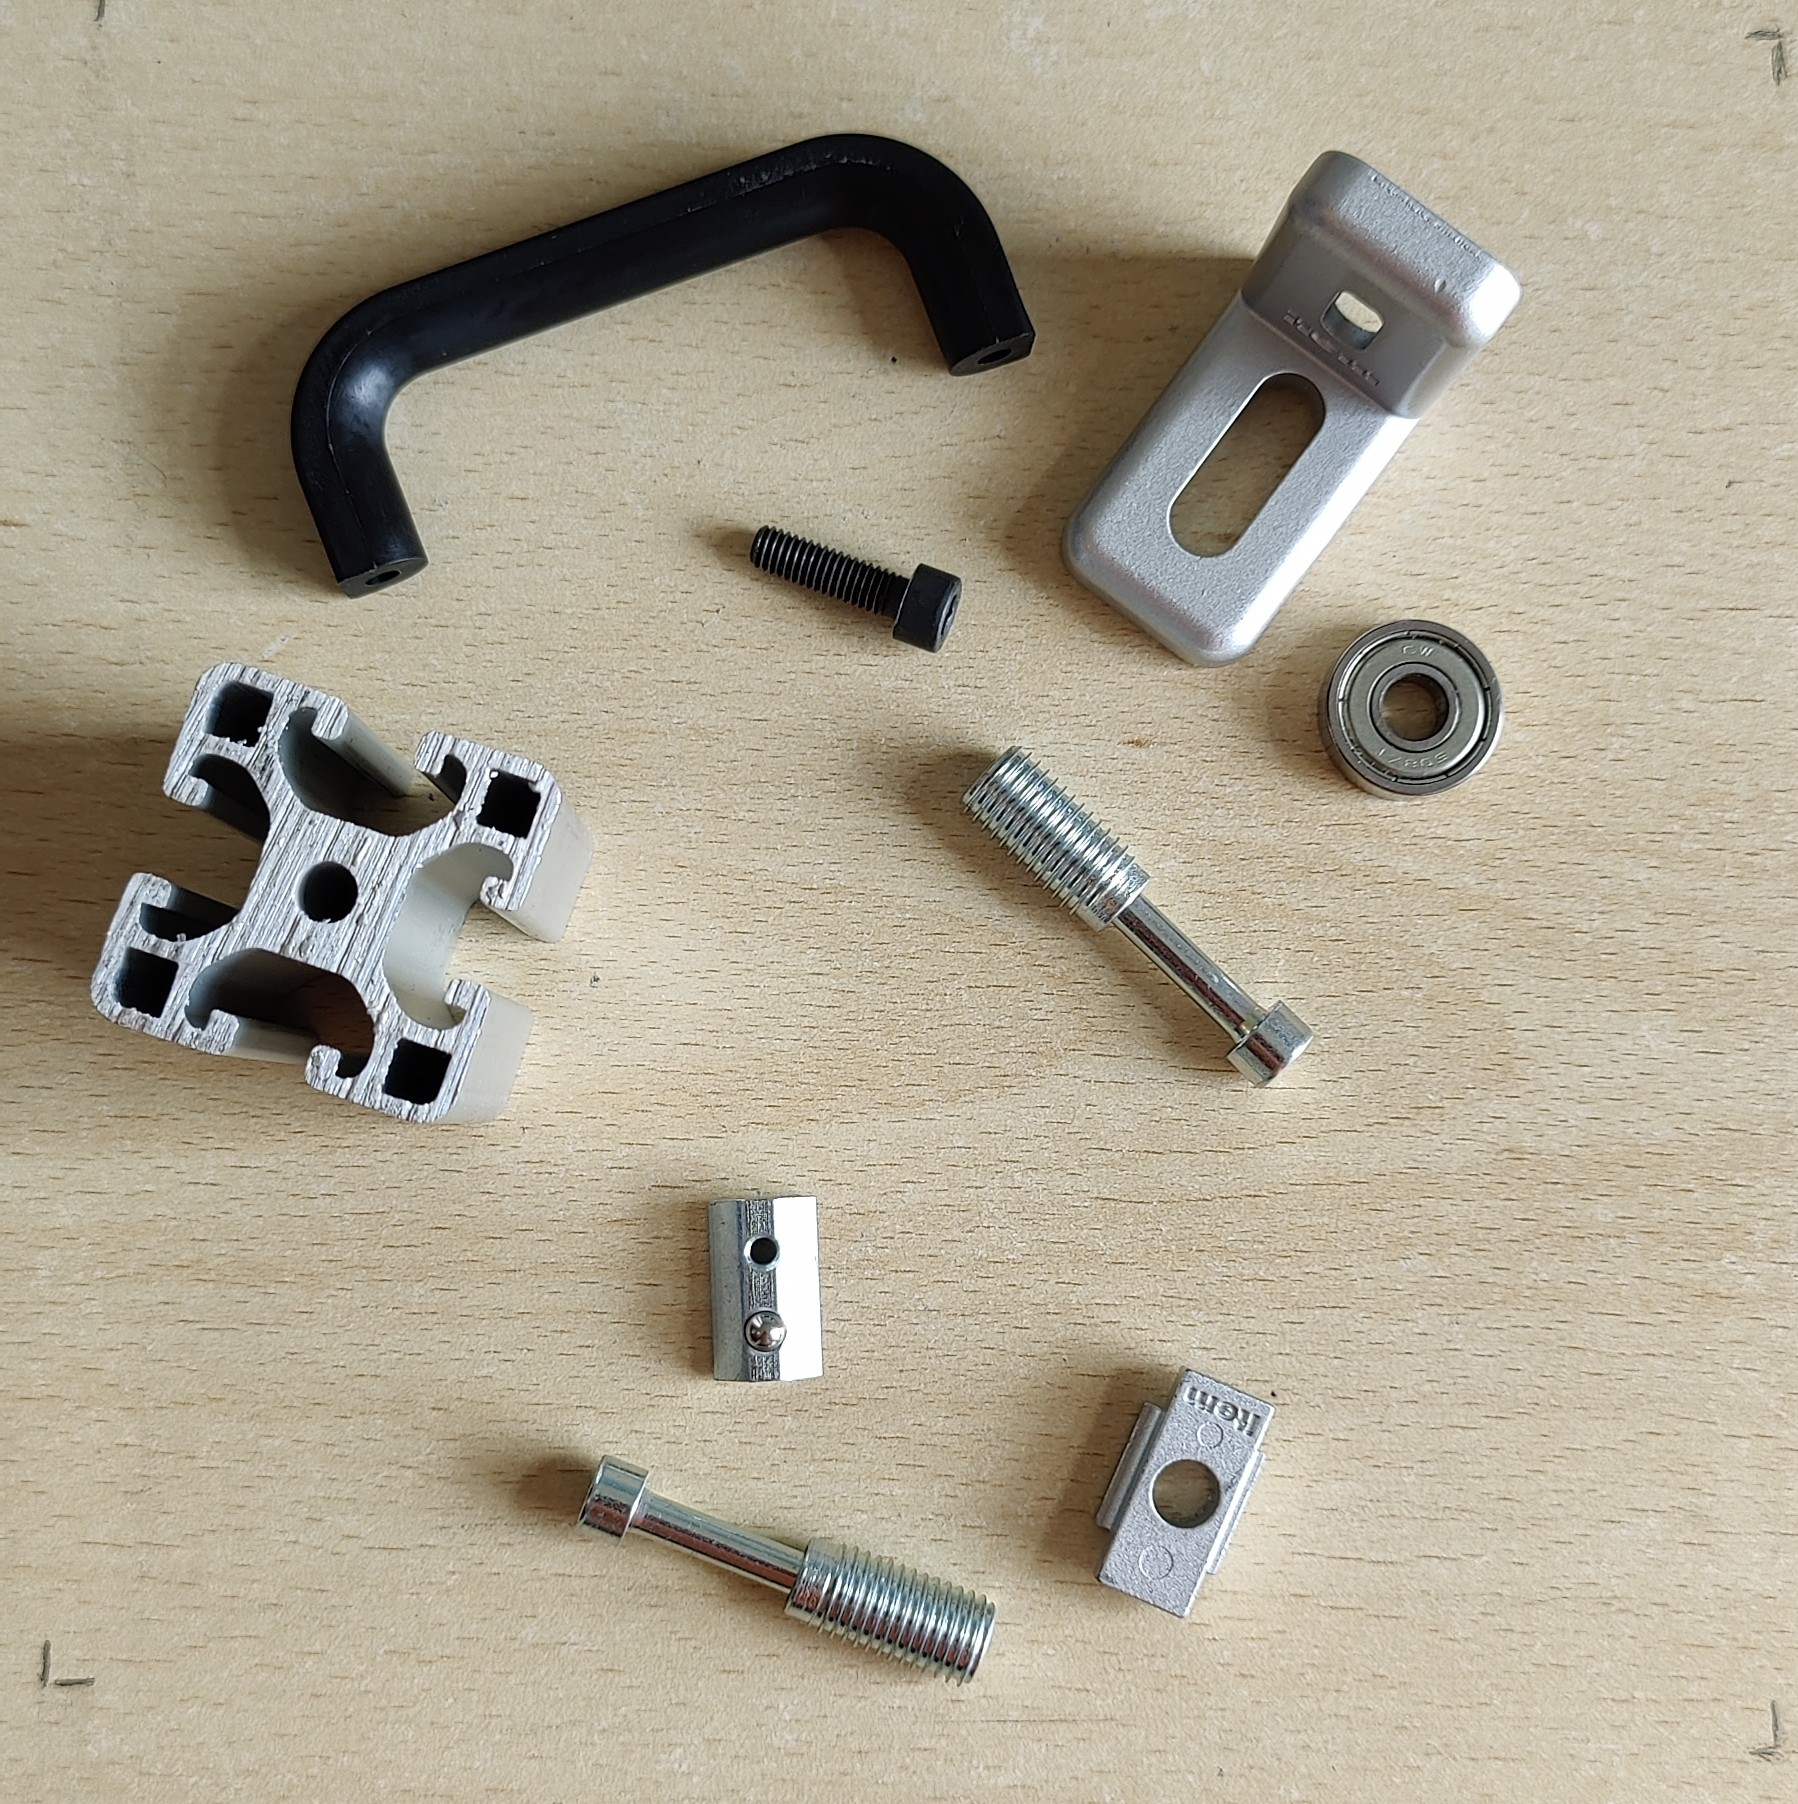Aluminium Extension: (87, 660, 599, 1129)
Ball Bearing: (1314, 617, 1507, 803)
Multiwinkel: (1059, 145, 1525, 672)
Pull Handle: (290, 127, 1039, 601)
Shoulder Socket Head Cap Screw: (955, 742, 1317, 1091), (576, 1452, 999, 1692)
Socket Head Cap Screw: (744, 522, 965, 653)
T Nut Square: (1092, 1366, 1276, 1621)
T Spring Nut: (701, 1188, 828, 1388)
